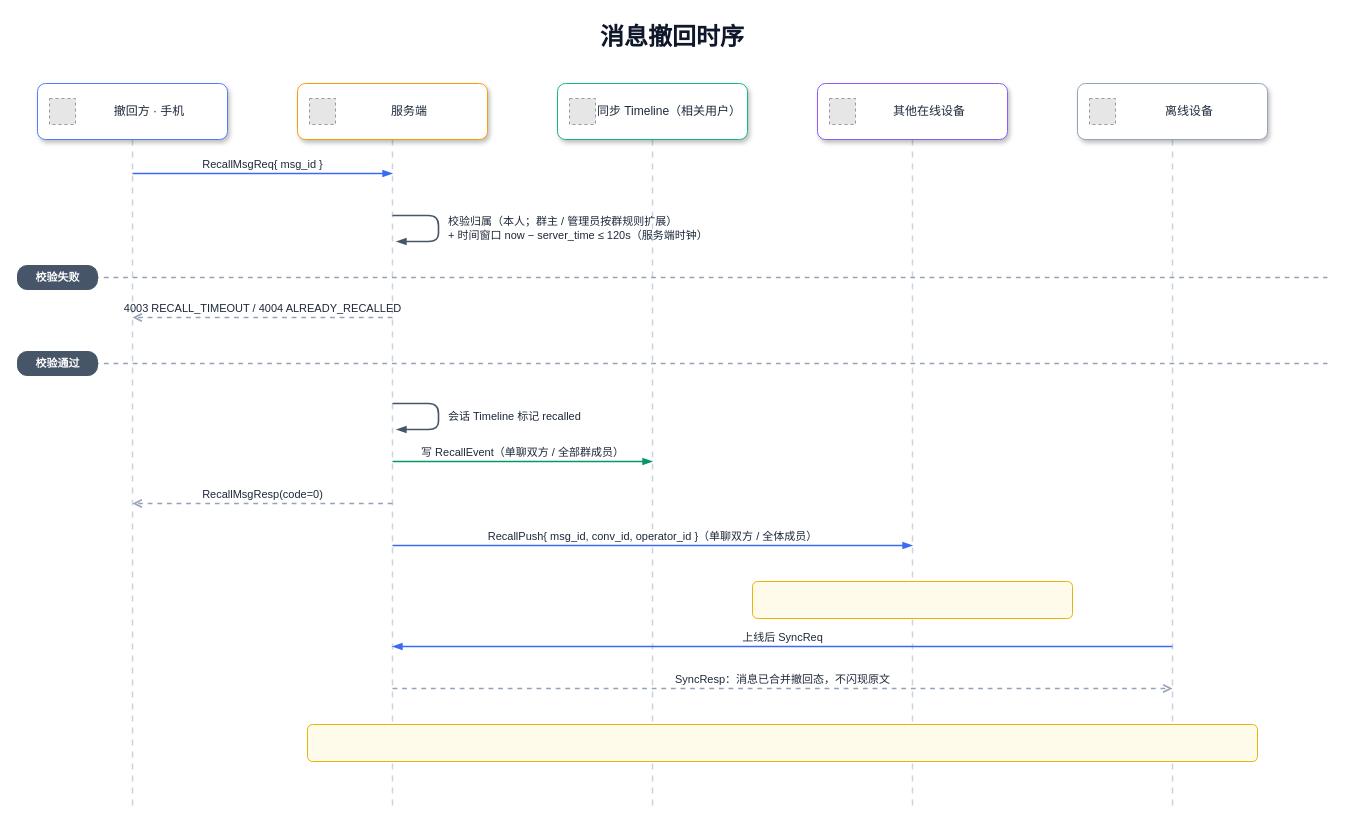
The diagram is 1347 pixels wide and 828 high, and some of its shapes have lost their labels. Grey dashed boxes stand in for pictures. The shapes that lost their labels are listed below. From the top down, each one's centre as x and y in pixels, then its label:
At point (912, 599): "多端并发撤回：后到者静默同步".
At point (782, 743): "风控复审命中时由服务端发起系统撤回（operator = SYSTEM），走同一路径".
